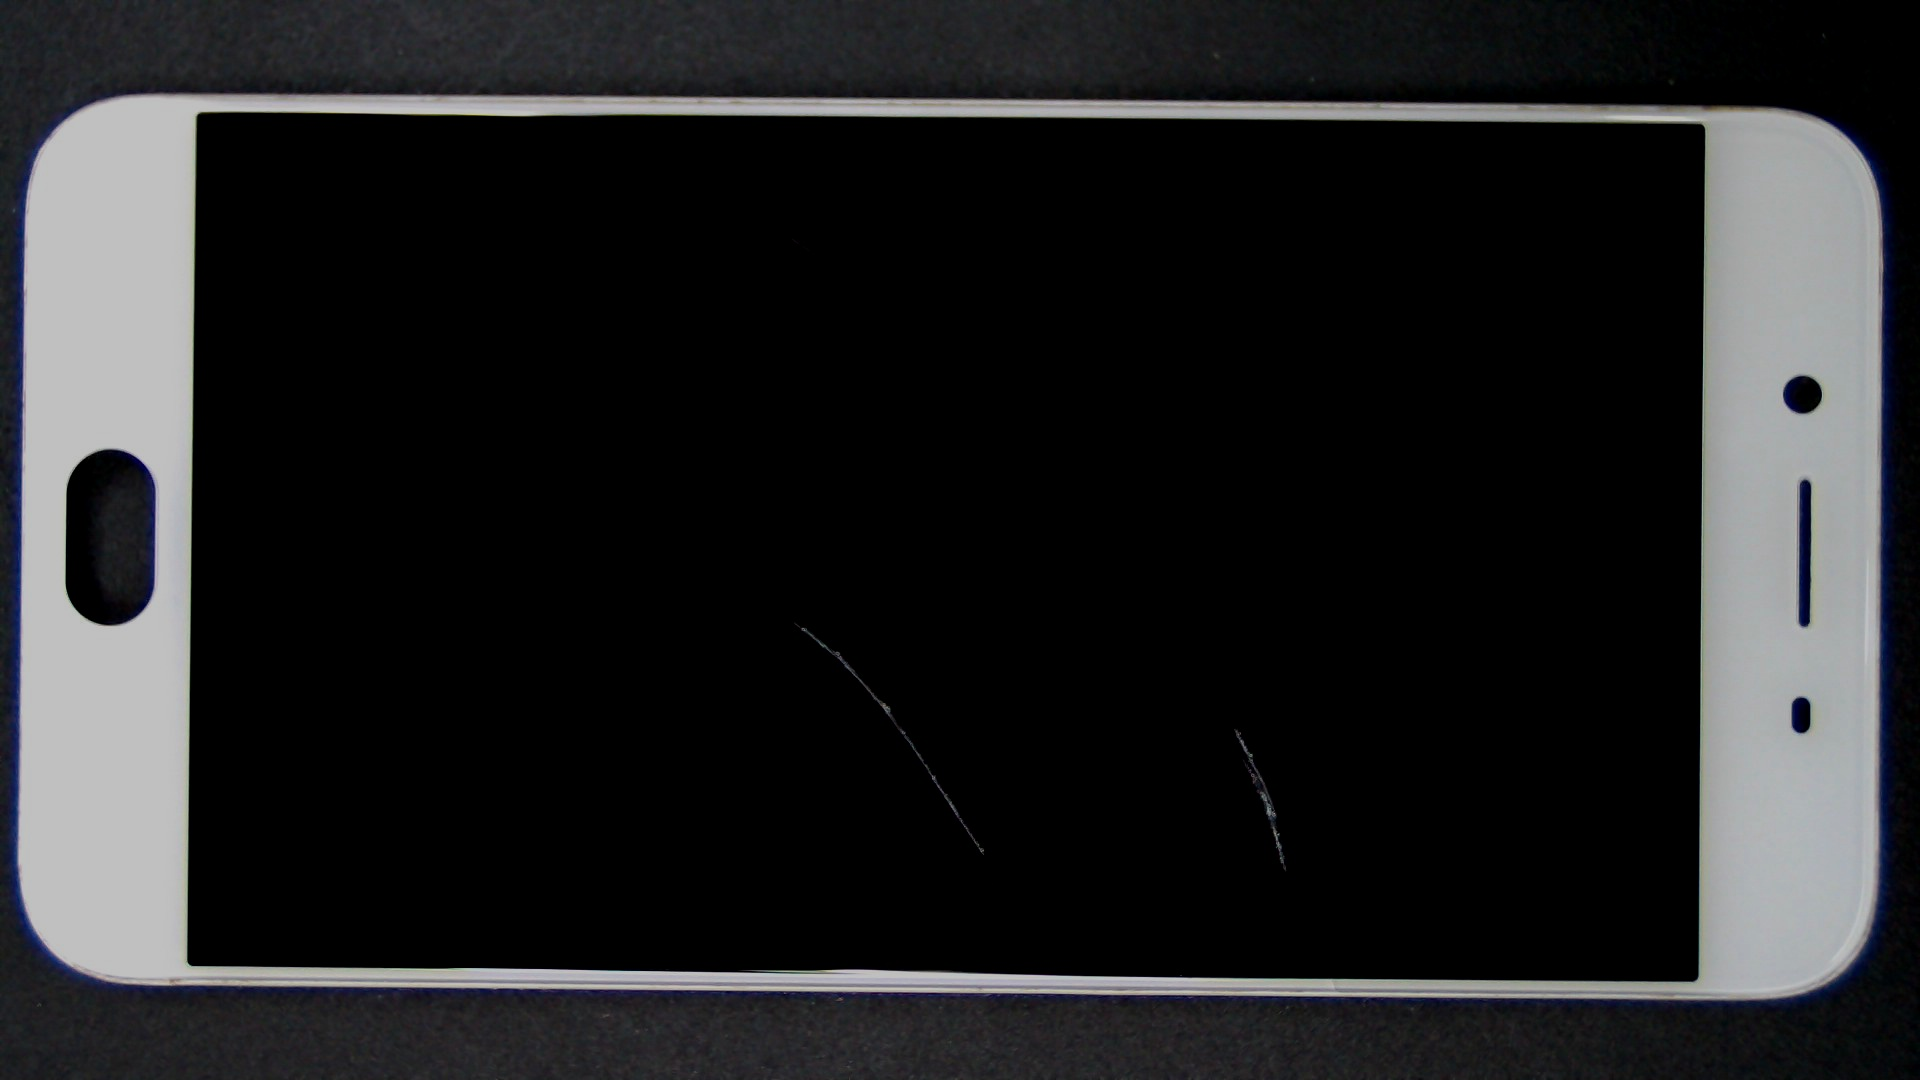oil: (618, 364, 1854, 1080), (397, 310, 1191, 931), (356, 84, 1117, 302)
